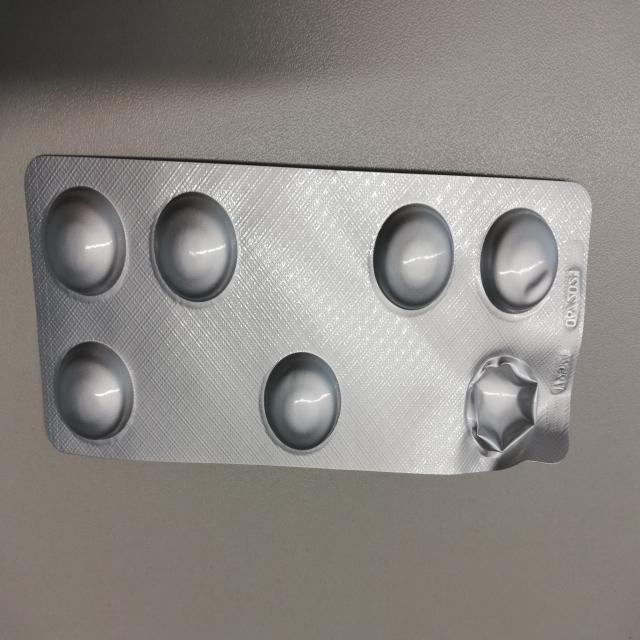Empty: (457, 348, 543, 458)
Pill: (35, 181, 130, 302), (149, 190, 240, 305), (368, 199, 458, 313), (477, 204, 562, 316), (49, 339, 137, 444), (257, 349, 343, 455)
